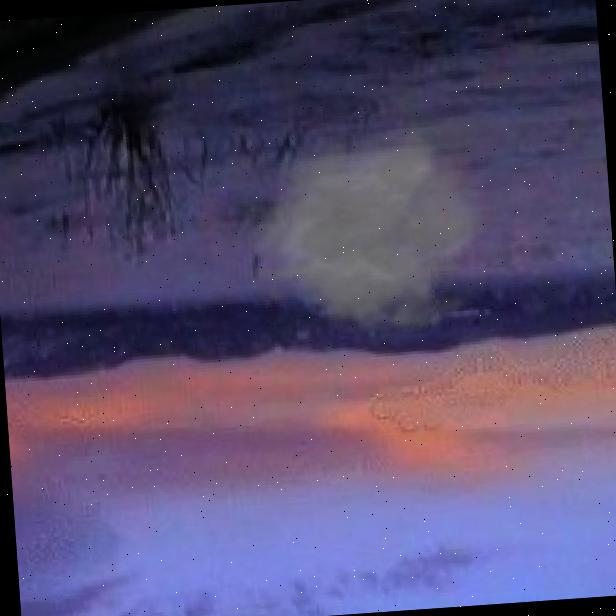smoke: (232, 122, 504, 359)
